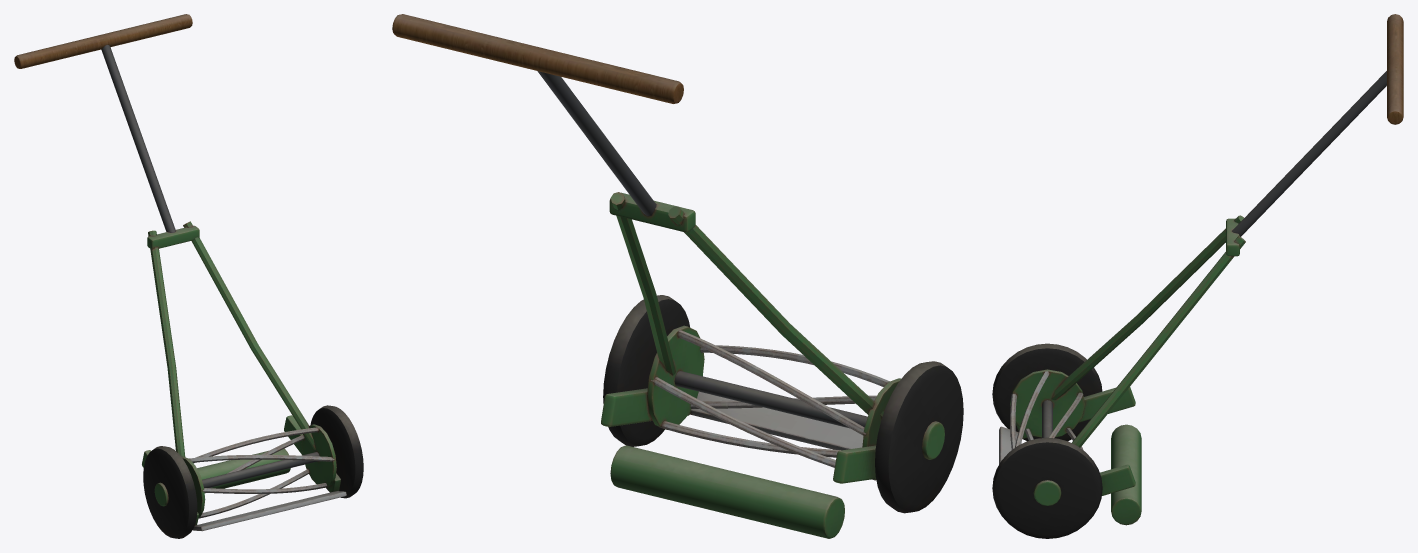
The model's file is lawnmower.glb.
3 renders of one model, left to right at view 1: azimuth 30°, elevation 25°; view 2: azimuth 150°, elevation 25°; view 3: azimuth 270°, elevation 25°, orthographic. The views are drawn at different scales.
Parts seen in each view (by area): view 1: lawnmower; view 2: lawnmower; view 3: lawnmower.
Part boxes in pixels (x1,y1,x2,y2): lawnmower: [14, 14, 363, 538]; lawnmower: [392, 14, 963, 538]; lawnmower: [992, 14, 1403, 538].
Bounding box in the file's own units: 0.54 × 1.02 × 0.887.
1 material, 1 textured.
